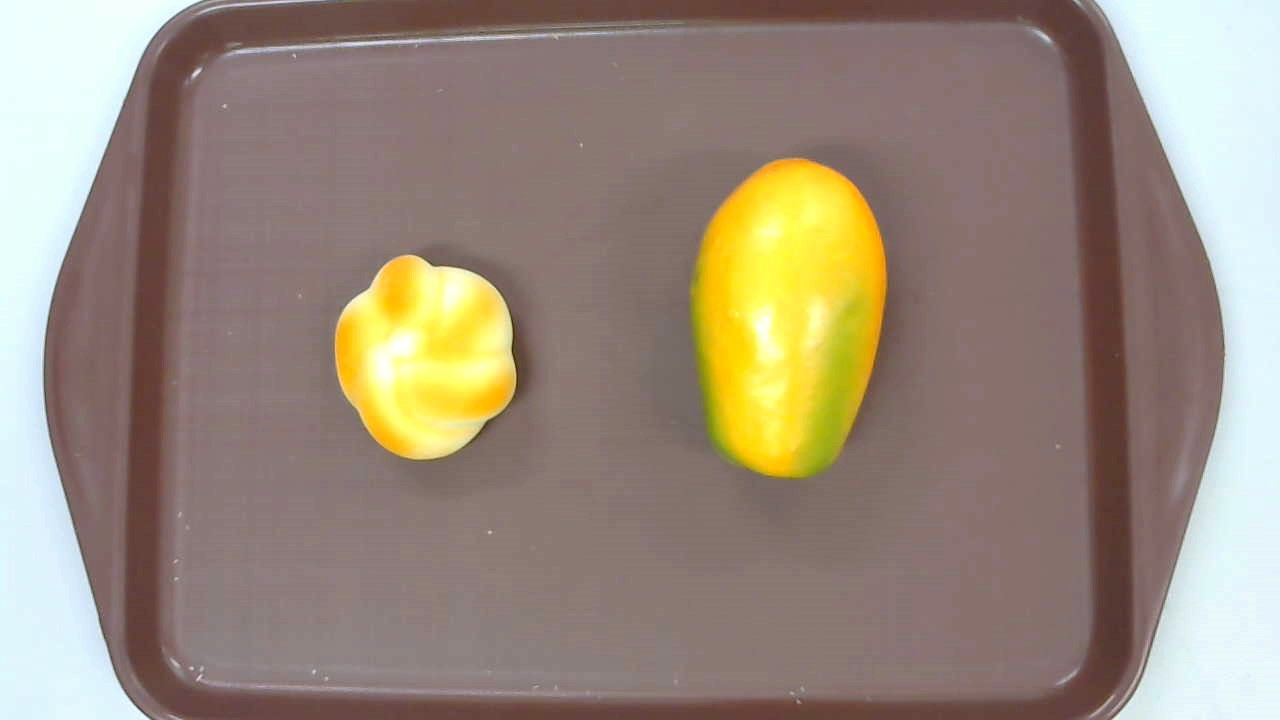papya: (690, 158, 888, 478)
twist bread: (334, 253, 516, 461)
